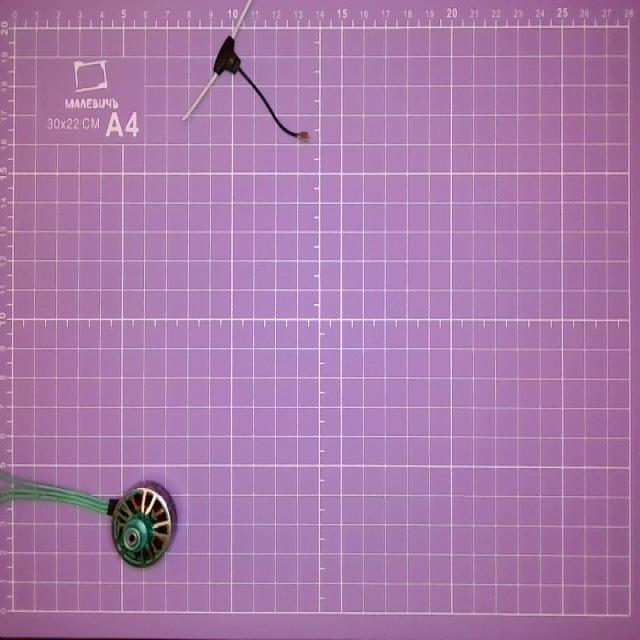antenna: (183, 0, 309, 145)
motor: (0, 469, 185, 568)
